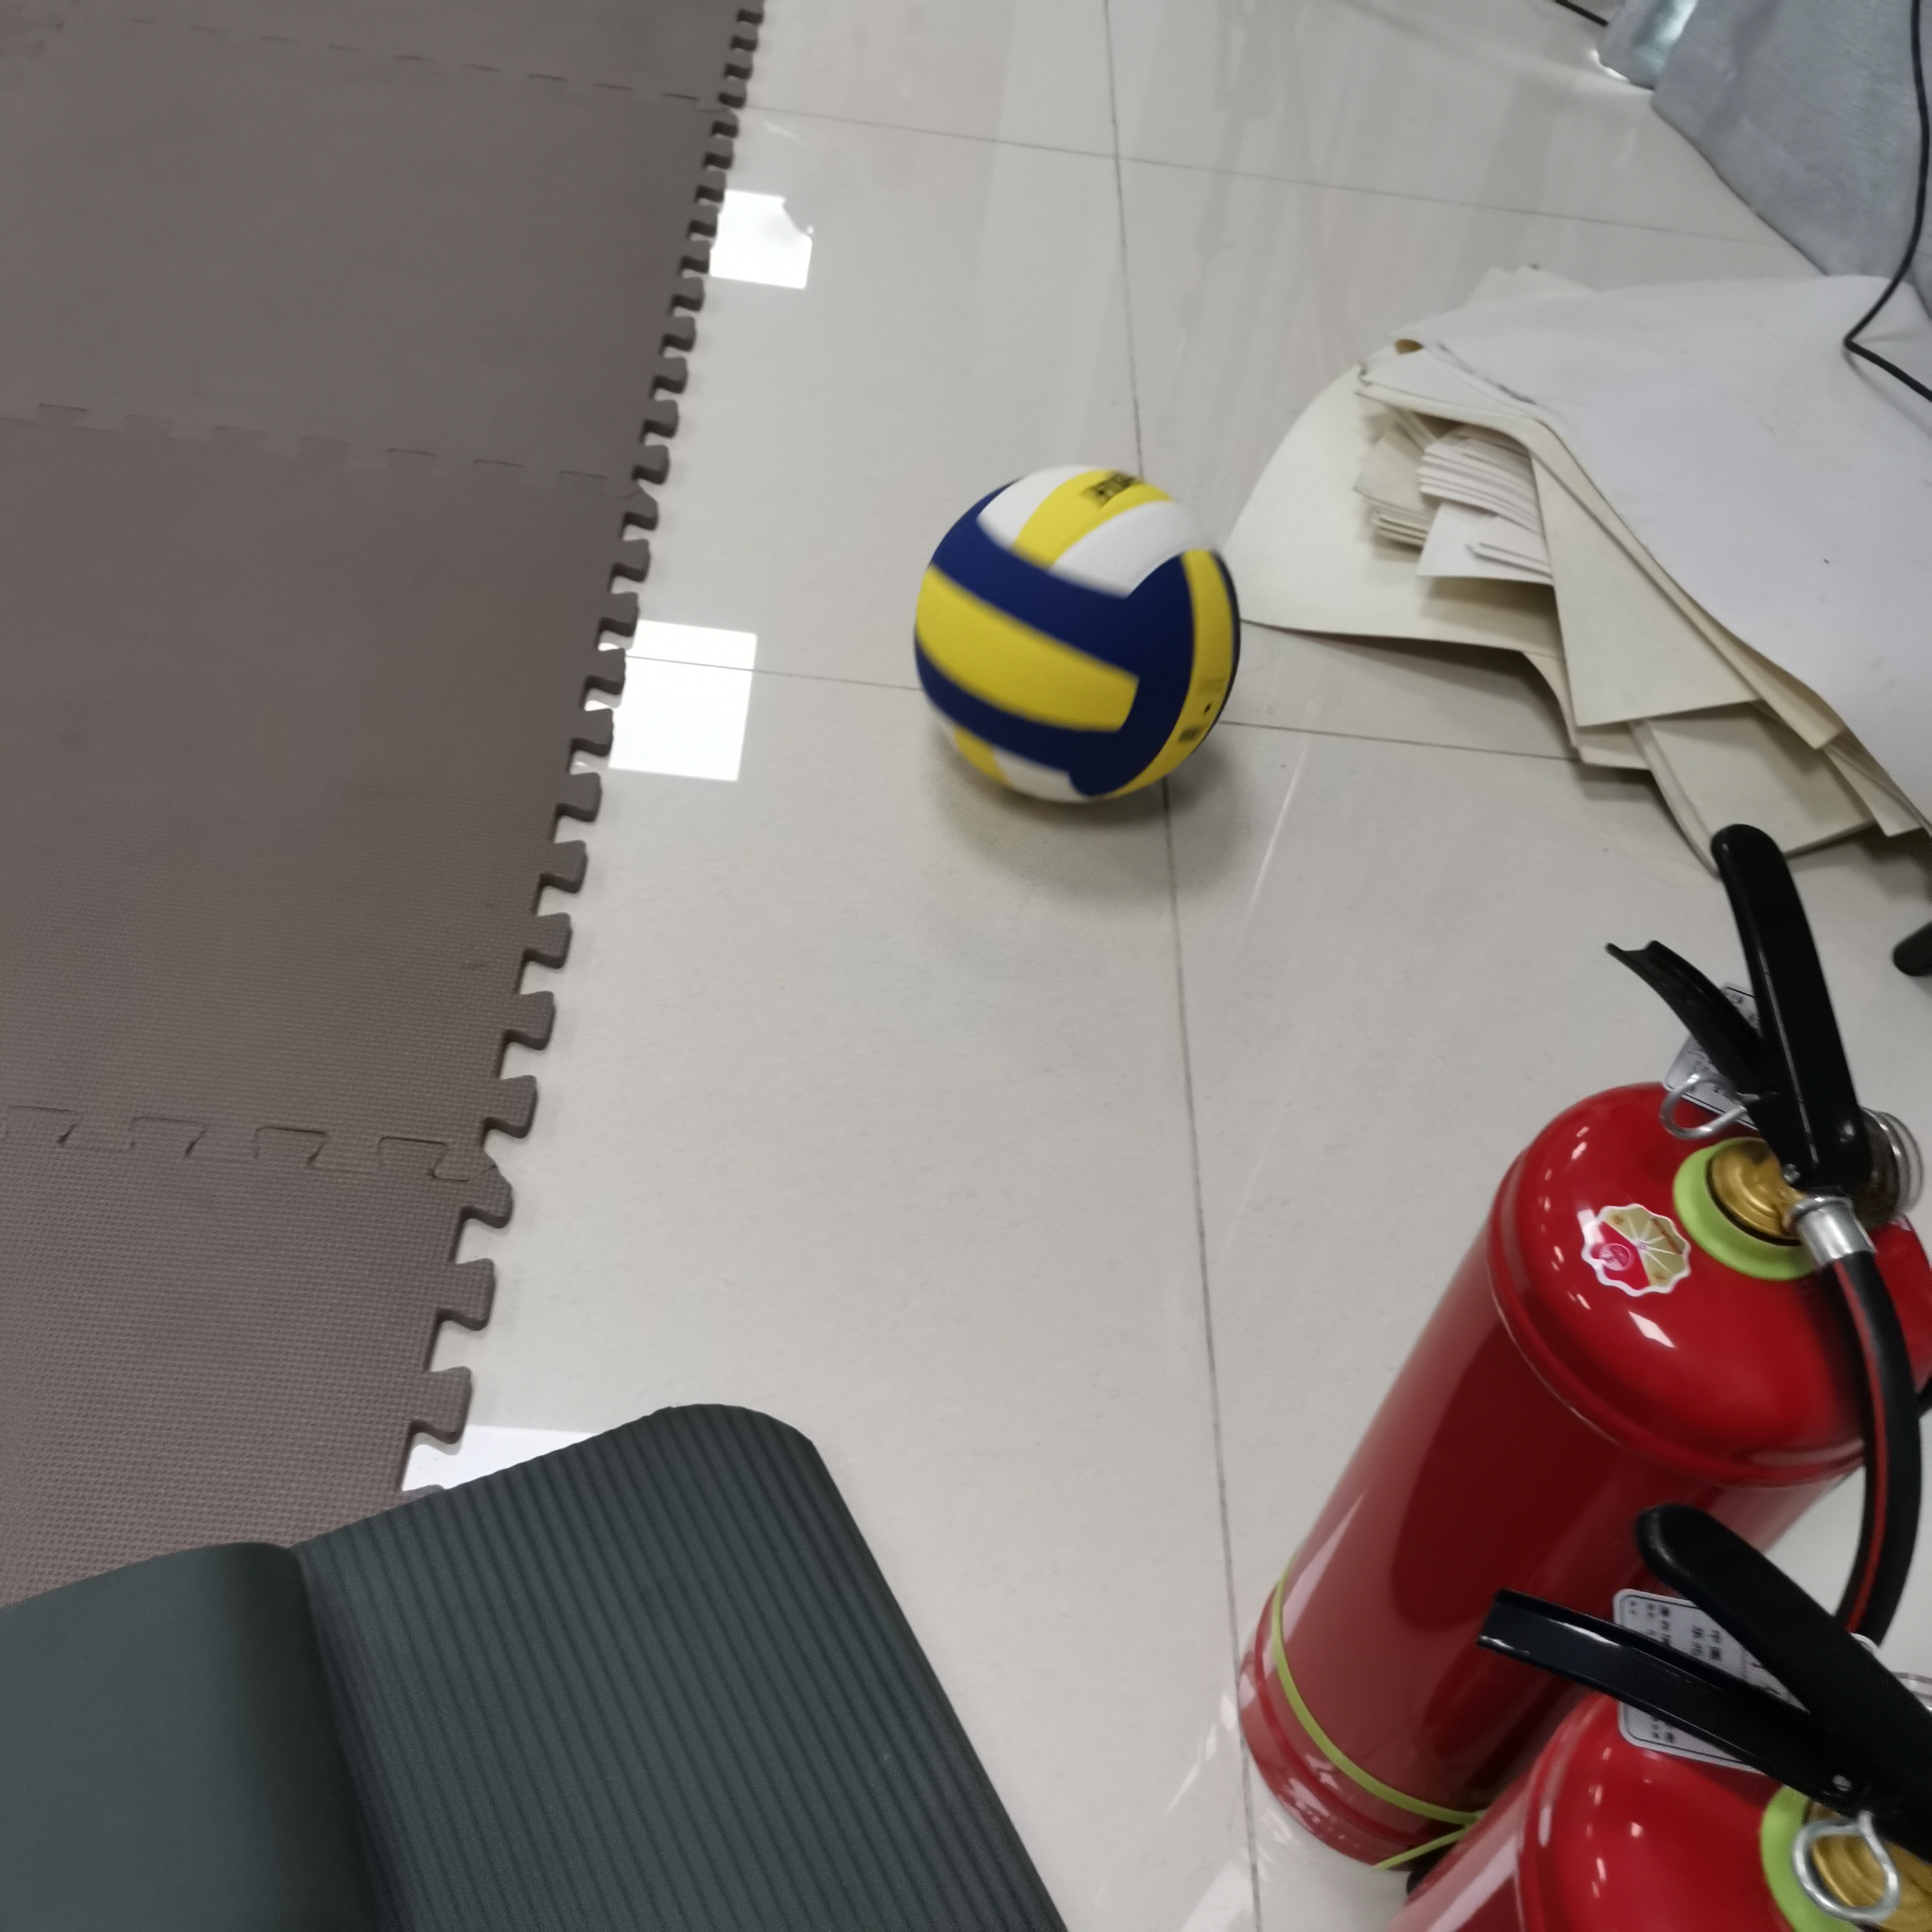volleyball: (916, 462, 1242, 817)
